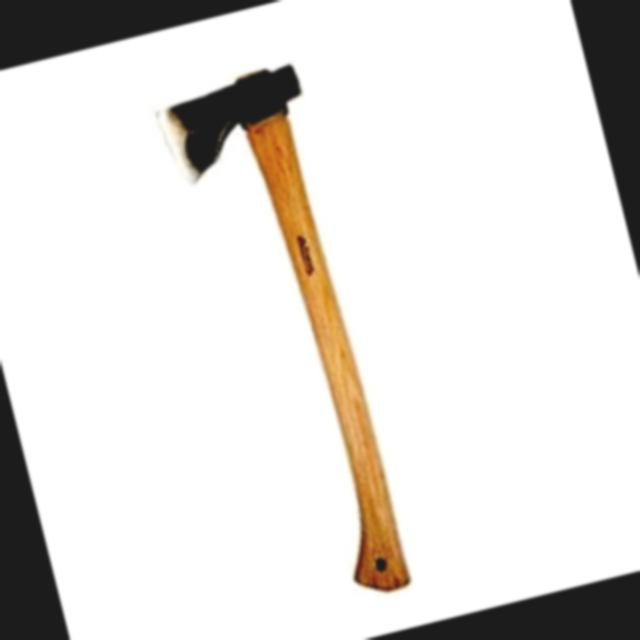ax: (135, 42, 449, 632)
